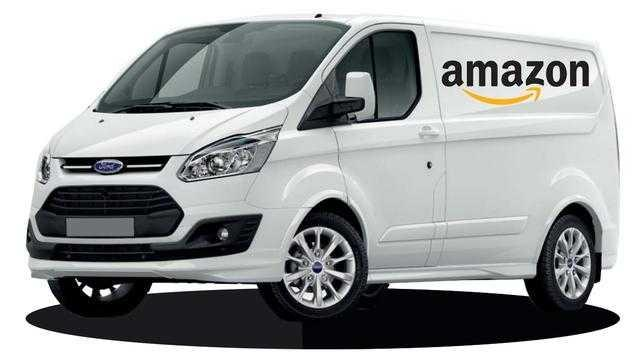car: (27, 17, 631, 317)
